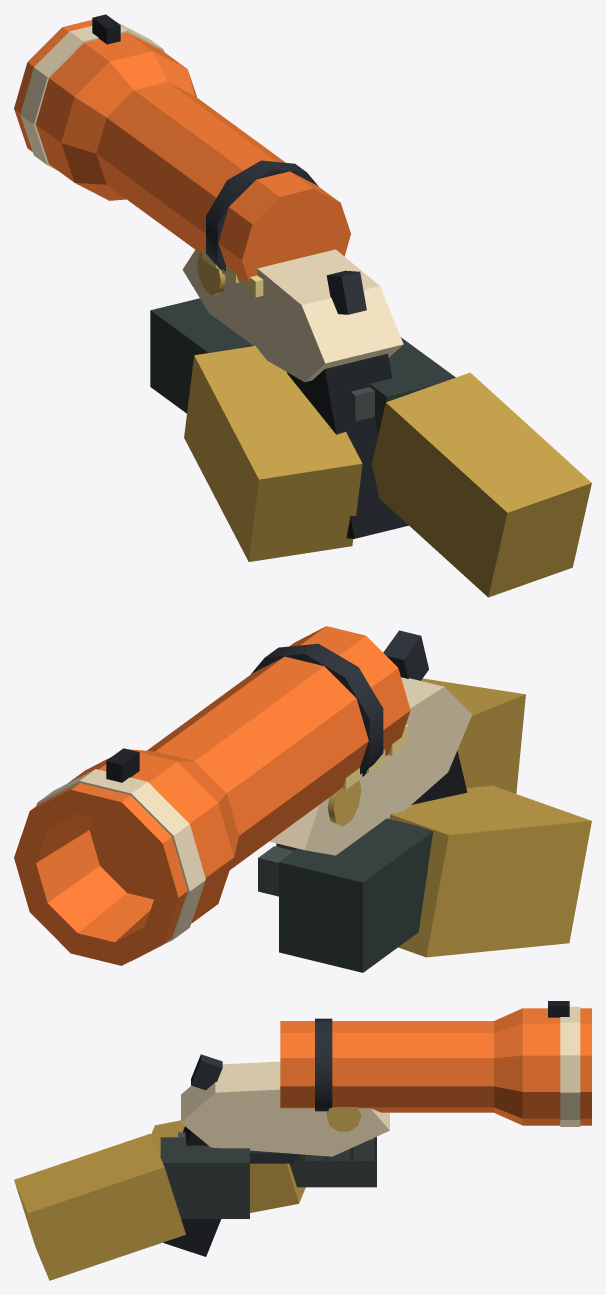
Rendered from flare_launcher.glb.
The picture shows the model from 3 angles, top to bottom: view 1: azimuth 30°, elevation 25°; view 2: azimuth 150°, elevation 25°; view 3: azimuth 270°, elevation 25°; orthographic projection. The views are drawn at different scales.
Visible parts, largest first — view 1: _MeshInstance3D_3668, _MeshInstance3D_3692, _MeshInstance3D_3686, _MeshInstance3D_3669, _MeshInstance3D_3670, _MeshInstance3D_3685, _MeshInstance3D_3671, _MeshInstance3D_3691, _MeshInstance3D_3673, _MeshInstance3D_3674; view 2: _MeshInstance3D_3668, _MeshInstance3D_3686, _MeshInstance3D_3685, _MeshInstance3D_3669, _MeshInstance3D_3692, _MeshInstance3D_3671, _MeshInstance3D_3673, _MeshInstance3D_3674, _MeshInstance3D_3670, _MeshInstance3D_3672, _MeshInstance3D_3687, _MeshInstance3D_3680; view 3: _MeshInstance3D_3668, _MeshInstance3D_3692, _MeshInstance3D_3669, _MeshInstance3D_3691, _MeshInstance3D_3686, _MeshInstance3D_3685, _MeshInstance3D_3671, _MeshInstance3D_3673, _MeshInstance3D_3670, _MeshInstance3D_3674, _MeshInstance3D_3672, _MeshInstance3D_3675 (+1 smaller).
Boxes of the visible parts, x1,y1,x2,y2 form: _MeshInstance3D_3668: (14,20,350,283); _MeshInstance3D_3692: (371,372,591,597); _MeshInstance3D_3686: (184,346,362,561); _MeshInstance3D_3669: (182,249,403,382); _MeshInstance3D_3670: (287,353,408,538); _MeshInstance3D_3685: (150,298,252,413); _MeshInstance3D_3671: (20,22,164,170); _MeshInstance3D_3691: (369,337,455,434); _MeshInstance3D_3673: (206,160,318,271); _MeshInstance3D_3674: (326,270,366,314); _MeshInstance3D_3668: (14,626,410,965); _MeshInstance3D_3686: (389,785,591,957); _MeshInstance3D_3685: (279,818,433,972); _MeshInstance3D_3669: (269,677,472,855); _MeshInstance3D_3692: (421,678,525,793); _MeshInstance3D_3671: (36,769,205,961); _MeshInstance3D_3673: (251,643,383,776); _MeshInstance3D_3674: (383,630,428,680); _MeshInstance3D_3670: (411,750,467,804); _MeshInstance3D_3672: (327,780,361,826); _MeshInstance3D_3687: (258,846,293,896); _MeshInstance3D_3680: (106,748,139,782); _MeshInstance3D_3668: (280,1008,591,1125); _MeshInstance3D_3692: (14,1133,185,1280); _MeshInstance3D_3669: (181,1061,389,1156); _MeshInstance3D_3691: (160,1137,249,1218); _MeshInstance3D_3686: (151,1120,305,1212); _MeshInstance3D_3685: (289,1136,376,1187); _MeshInstance3D_3671: (560,1006,580,1126); _MeshInstance3D_3673: (315,1018,332,1111); _MeshInstance3D_3670: (163,1126,221,1256); _MeshInstance3D_3674: (191,1054,222,1090); _MeshInstance3D_3672: (326,1107,361,1131); _MeshInstance3D_3675: (250,1150,293,1163).
Size of the model in its own units: 0.1445 by 0.1853 by 0.4007.
